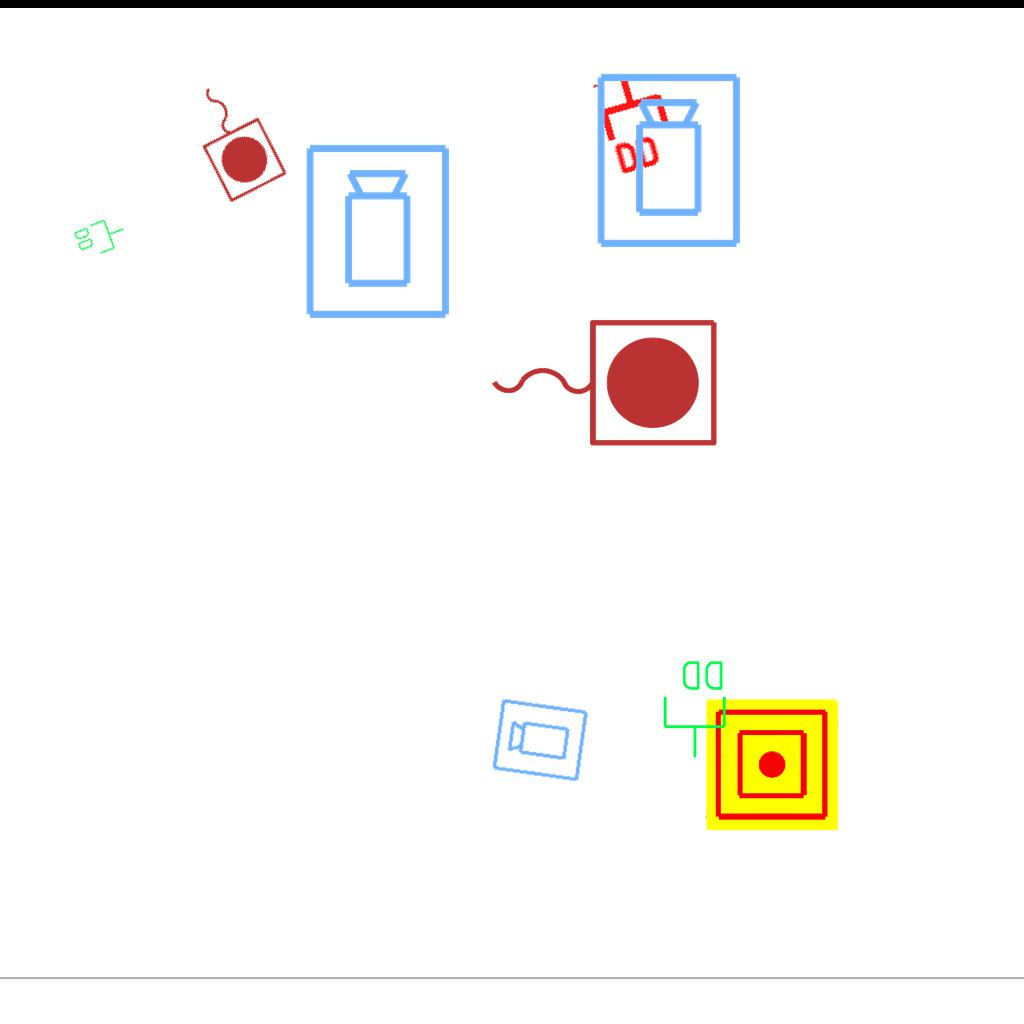Datenanschluss_zweifach: (590, 62, 685, 181), (661, 657, 730, 760), (70, 212, 131, 262)
KFO_Kamera_mit_Festobjektiv: (302, 141, 456, 323), (593, 70, 747, 252), (490, 695, 591, 784)
NAM-Nichtautomatischer_Melder: (706, 699, 838, 831)
Zugtaster: (481, 309, 725, 453), (174, 66, 294, 208)
